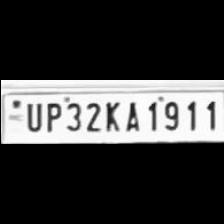1: (200, 98, 220, 132), (141, 98, 159, 132), (182, 98, 200, 132)
2: (82, 99, 100, 133)
3: (61, 97, 80, 132)
9: (158, 98, 182, 132)
A: (120, 97, 140, 132)
K: (100, 97, 120, 132)
P: (42, 99, 60, 133)
U: (21, 98, 41, 132)
